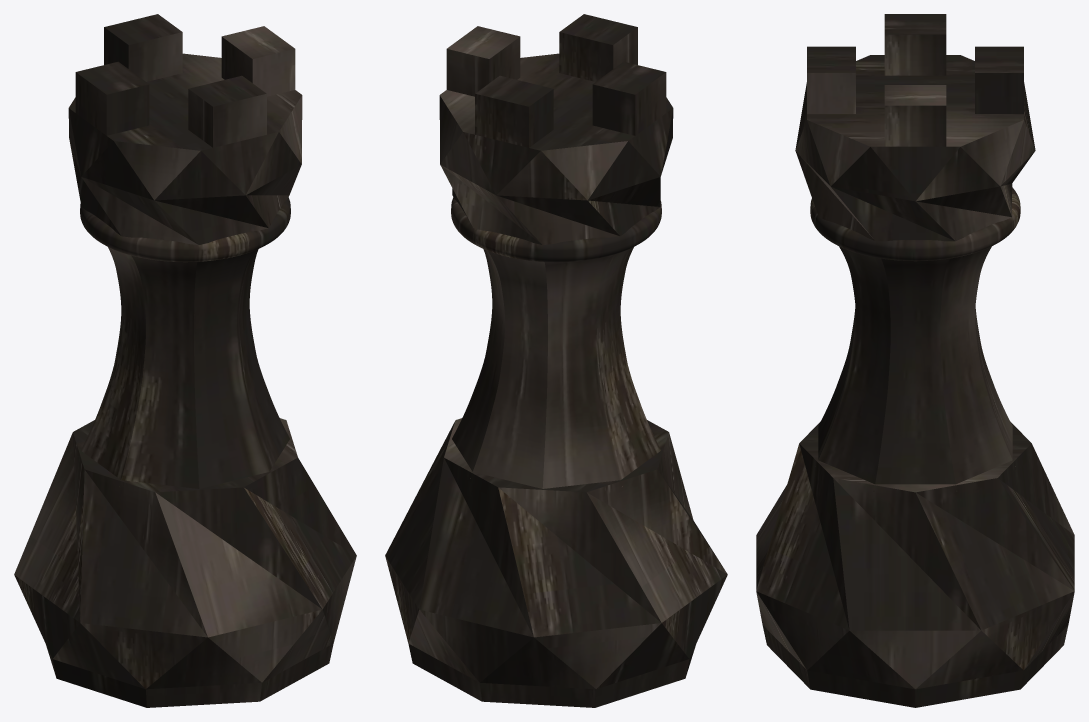
The model's file is lithoxyl_rook_black.glb.
3 renders of one model, left to right at view 1: azimuth 30°, elevation 25°; view 2: azimuth 150°, elevation 25°; view 3: azimuth 270°, elevation 25°, orthographic.
Parts seen in each view (by area): view 1: Lithoxyl_Rook_Onyx; view 2: Lithoxyl_Rook_Onyx; view 3: Lithoxyl_Rook_Onyx.
Boxes of the visible parts, x1=… form: Lithoxyl_Rook_Onyx: x1=14, y1=14, x2=356, y2=707; Lithoxyl_Rook_Onyx: x1=385, y1=14, x2=727, y2=707; Lithoxyl_Rook_Onyx: x1=756, y1=14, x2=1074, y2=707.
Size of the model in its own units: 0.0286 by 0.058 by 0.0286.
1 material, 1 textured.
